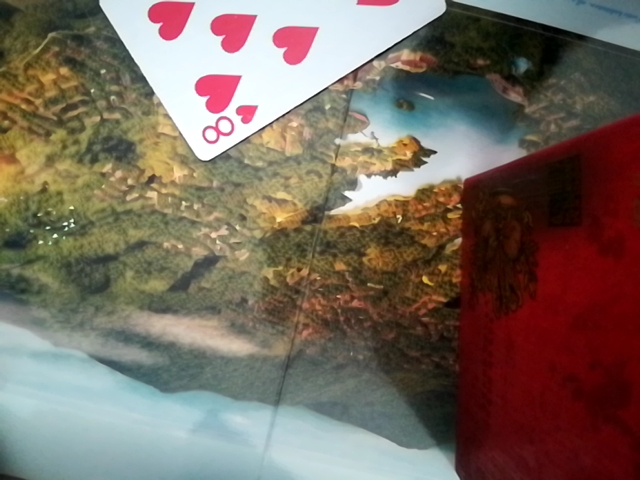hx 8: (90, 1, 449, 161)
